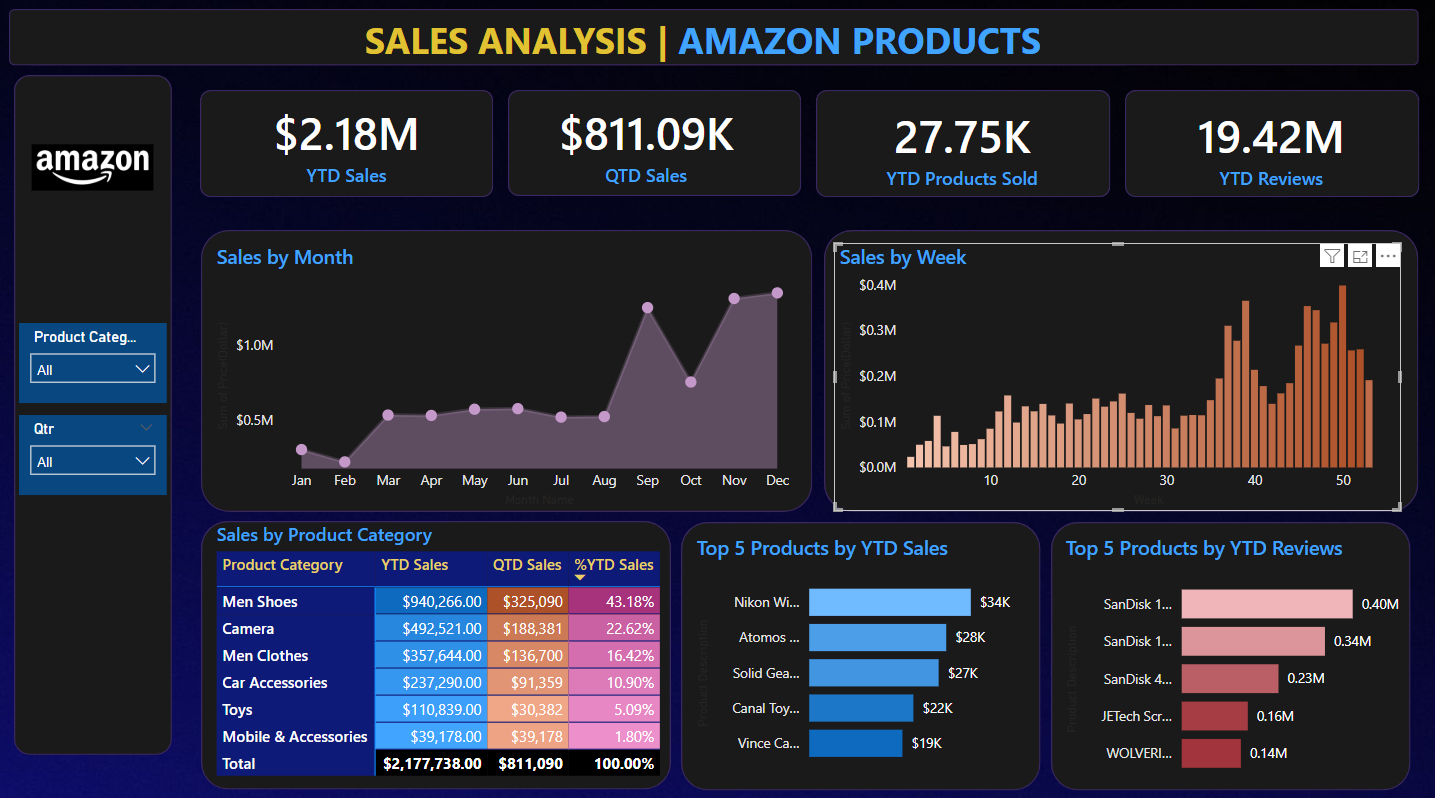

What the dashboard file says about the page in this screenshot:
{"tool":"powerbi","page":{"name":"Page 1","canvas":[1280,720],"ordinal":0},"visuals":[{"type":"shape","box":[12.6,10.7,1250,50],"z":0},{"type":"shape","box":[16.5,69.1,140.1,603],"z":1000},{"type":"textbox","box":[322.9,10.7,677.9,58.4],"z":2000},{"type":"shape","box":[181.9,82.7,260,95],"z":3000},{"type":"shape","box":[1001.8,82.7,260.7,95.3],"z":4000},{"type":"card","fields":{"Values":["Amazon_Data.YTD Sales"]},"box":[181.9,82.7,259.7,95.3],"z":5000},{"type":"card","fields":{"Values":["Amazon_Data.YTD Reviews"]},"box":[1017.4,82.7,229.5,100.2],"z":6000},{"type":"shape","box":[454.9,82.7,259.7,94.3],"z":7000},{"type":"shape","box":[182.9,206.2,542,250],"z":8000},{"type":"card","fields":{"Values":["Amazon_Data.QTD Sales"]},"box":[463,79.8,229.5,100.2],"z":9000},{"type":"shape","box":[727.9,82.7,260.7,95.3],"z":10000},{"type":"areaChart","title":"Sales by Month","fields":{"Category":["Date Table.Month Name"],"Y":["Sum(Amazon_Data.Price(Dollar))"]},"box":[191.6,217.9,523.3,238.3],"z":11000},{"type":"shape","box":[735.3,206.2,527.2,250],"z":12000},{"type":"card","fields":{"Values":["Amazon_Data.YTD Products Sold"]},"box":[743.1,82.7,229.5,100.2],"z":13000},{"type":"columnChart","title":"Sales by Week","fields":{"Category":["Date Table.Week"],"Y":["Sum(Amazon_Data.Price(Dollar))"]},"box":[744.1,217.9,502.9,238.3],"z":14000},{"type":"shape","box":[182.9,464.9,417.3,238.3],"z":15000},{"type":"pivotTable","title":"Sales by Product Category","fields":{"Values":["Amazon_Data.YTD Sales1","Amazon_Data.QTD Sales","Amazon_Data.YTD Sales"],"Rows":["Amazon_Data.Product Category"]},"box":[191.6,465.9,466.9,237.3],"z":16000},{"type":"shape","box":[607.9,465.9,319,238.3],"z":17000},{"type":"shape","box":[936.7,465.9,319,238.3],"z":18000},{"type":"clusteredBarChart","title":"Top 5 Products by YTD Sales","fields":{"Category":["Amazon_Data.Product Description"],"Y":["Amazon_Data.YTD Sales"]},"box":[617.1,476.2,298.8,216.4],"z":19000},{"type":"clusteredBarChart","title":"Top 5 Products by YTD Reviews","fields":{"Category":["Amazon_Data.Product Description"],"Y":["Amazon_Data.YTD Reviews"]},"box":[944.4,476.6,311.2,226.6],"z":20000},{"type":"slicer","fields":{"Values":["Amazon_Data.Product Category"]},"box":[21.3,289.1,131.2,70.9],"z":20001},{"type":"slicer","fields":{"Values":["Date Table.Qtr"]},"box":[21.3,370.6,131.2,70.9],"z":20002},{"type":"image","box":[27.5,104.6,117.9,93.1],"z":20003}]}

Visuals, with their boxes in screenshot pixels (x1, y1, x2, y2), scaled from the page's 1280x720 canvas onto the 1435x798 screenshot:
shape: 14:12:1415:67
shape: 18:77:176:745
textbox: 362:12:1122:77
shape: 204:92:495:197
shape: 1123:92:1415:197
card - Amazon_Data.YTD Sales: 204:92:495:197
card - Amazon_Data.YTD Reviews: 1141:92:1398:203
shape: 510:92:801:196
shape: 205:229:813:506
card - Amazon_Data.QTD Sales: 519:88:776:200
shape: 816:92:1108:197
"Sales by Month" areaChart: 215:242:801:506
shape: 824:229:1415:506
card - Amazon_Data.YTD Products Sold: 833:92:1090:203
"Sales by Week" columnChart: 834:242:1398:506
shape: 205:515:673:779
"Sales by Product Category" pivotTable: 215:516:738:779
shape: 682:516:1039:780
shape: 1050:516:1408:780
"Top 5 Products by YTD Sales" clusteredBarChart: 692:528:1027:768
"Top 5 Products by YTD Reviews" clusteredBarChart: 1059:528:1408:779
slicer - Amazon_Data.Product Category: 24:320:171:399
slicer - Date Table.Qtr: 24:411:171:489
image: 31:116:163:219
